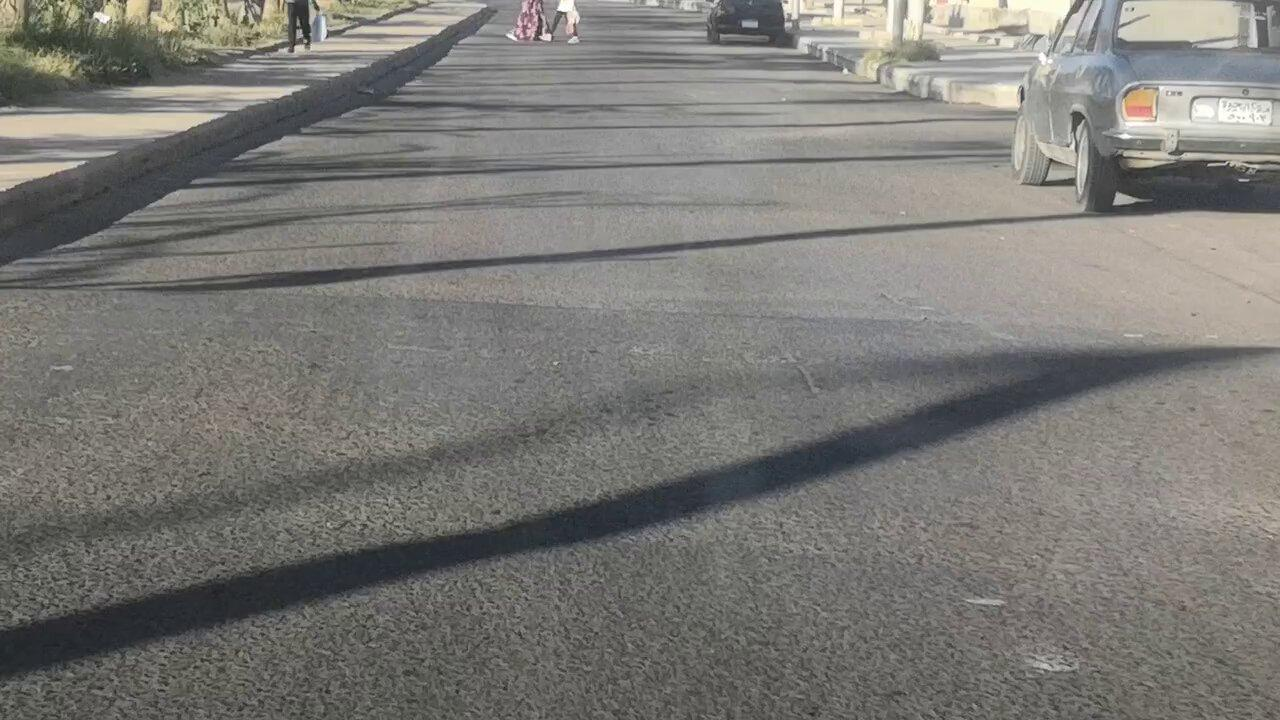Bump: (17, 277, 1280, 407)
